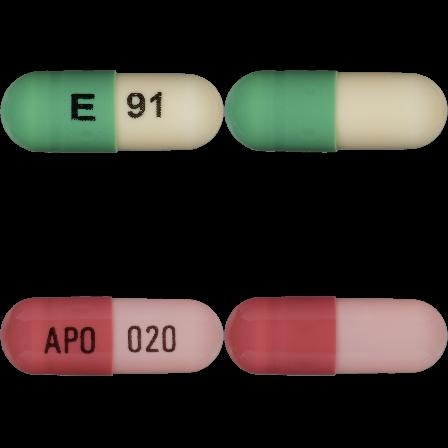63187-069: (0, 0, 224, 224)
